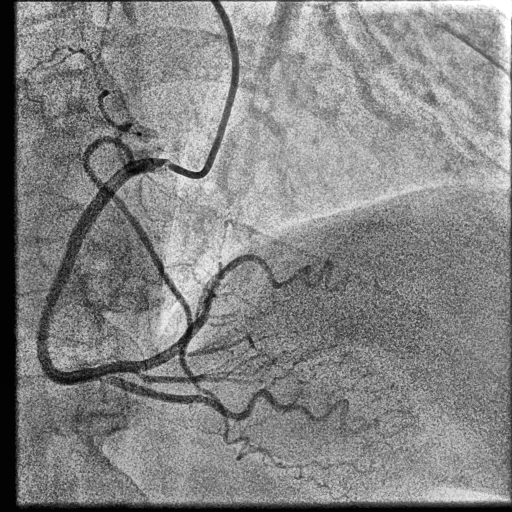pborca: (99, 254, 311, 374)
pda: (96, 376, 342, 421)
rca: (36, 158, 155, 384)
